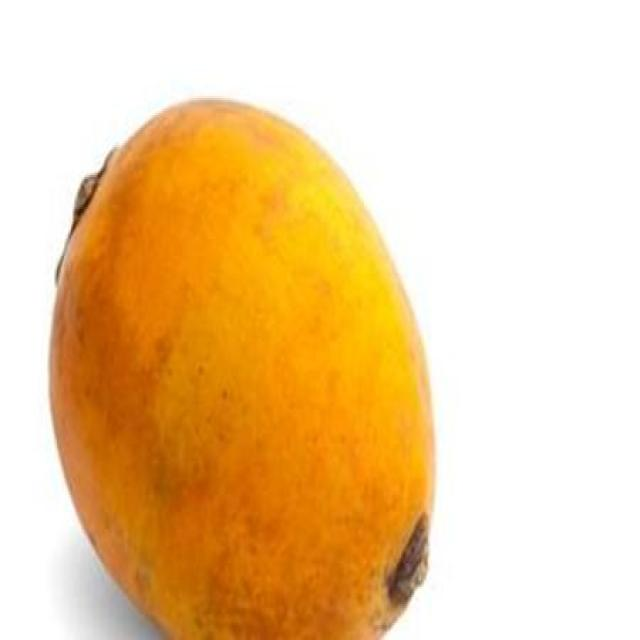good: (47, 98, 438, 638)
